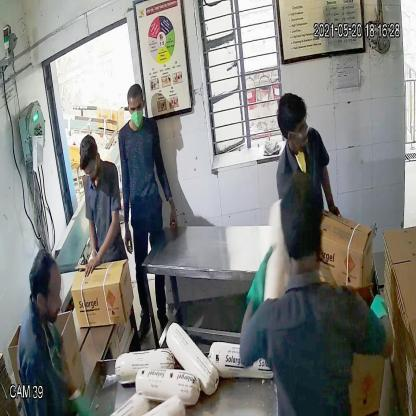no_goggles: (127, 103, 145, 116)
